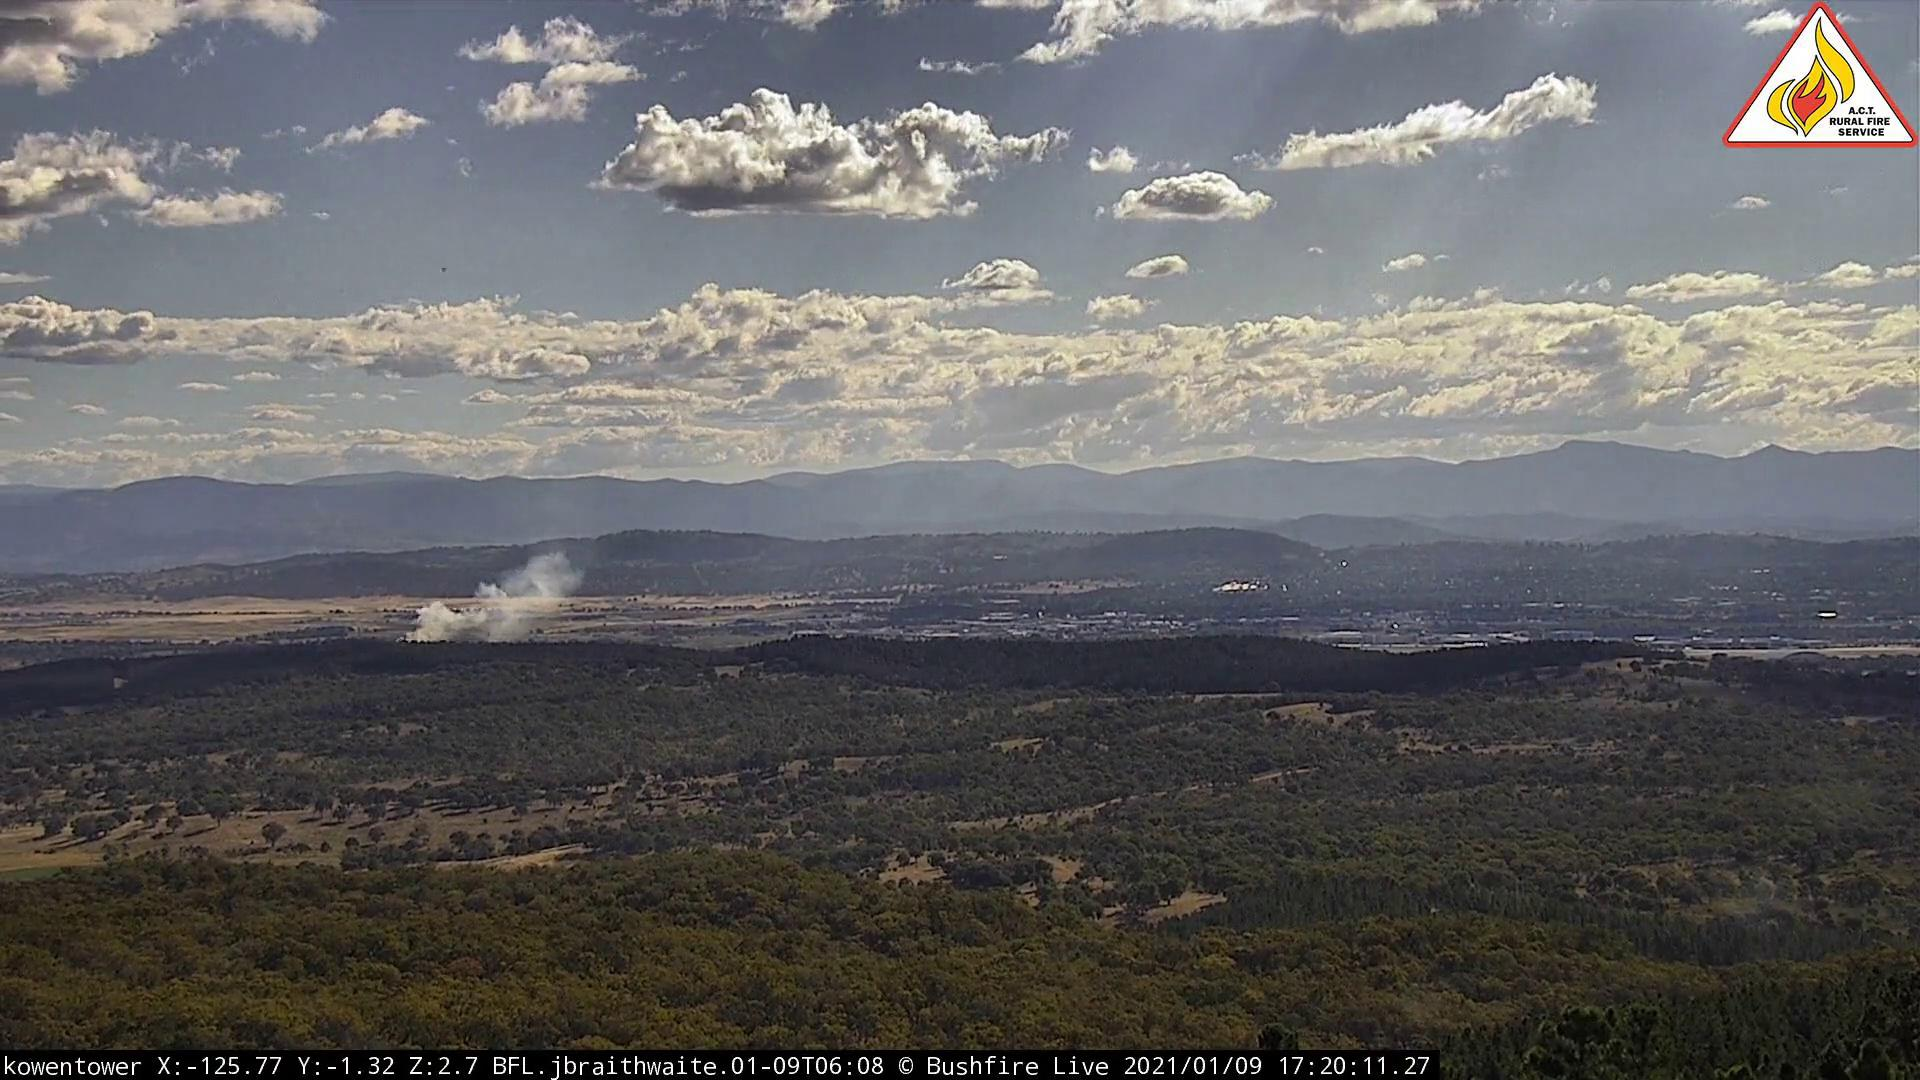Smoke: (397, 537, 593, 657)
